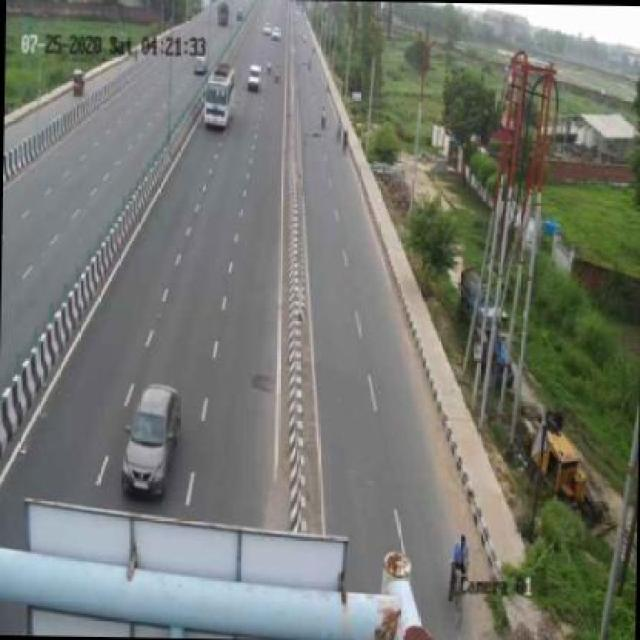car: (123, 383, 179, 497), (243, 62, 263, 92)
